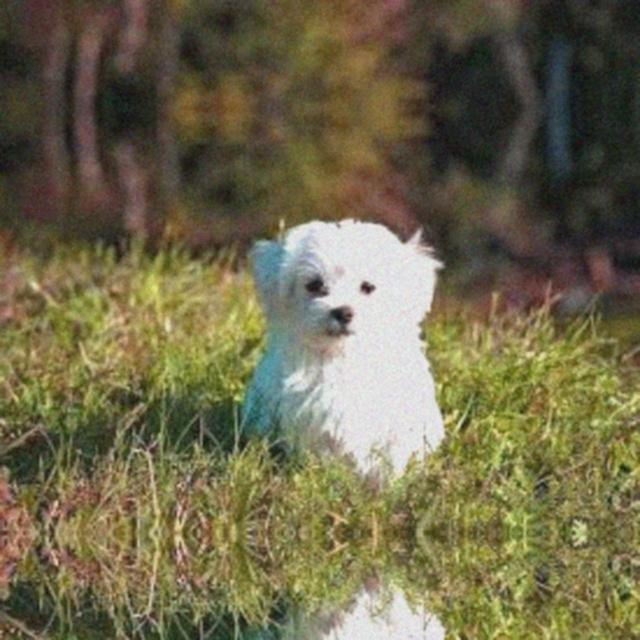dog: (218, 210, 446, 494), (219, 572, 446, 640), (219, 0, 446, 4)
